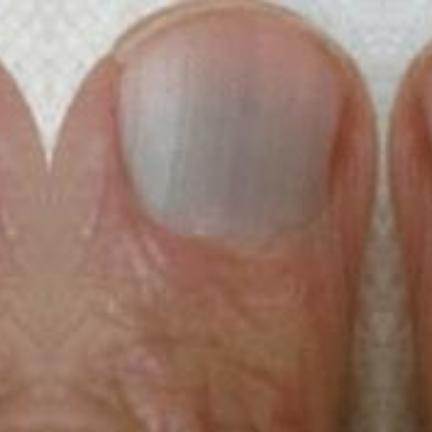Nail: (117, 0, 348, 241), (417, 46, 432, 157)
